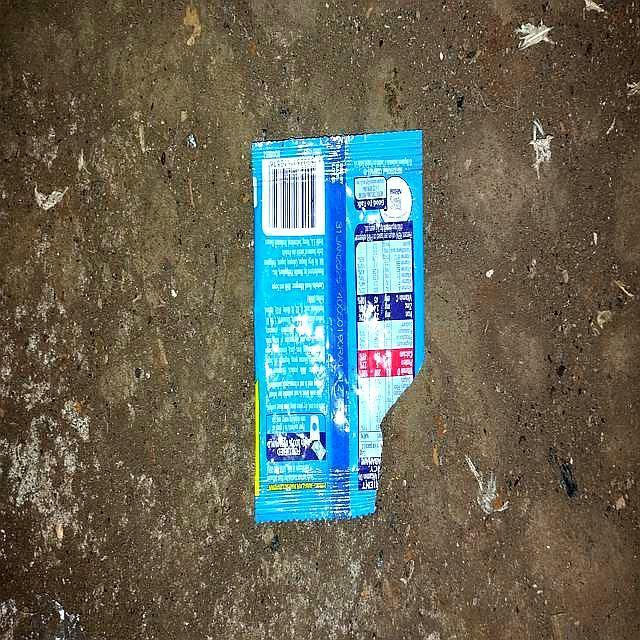Non-biodegradable: (250, 129, 427, 525)
